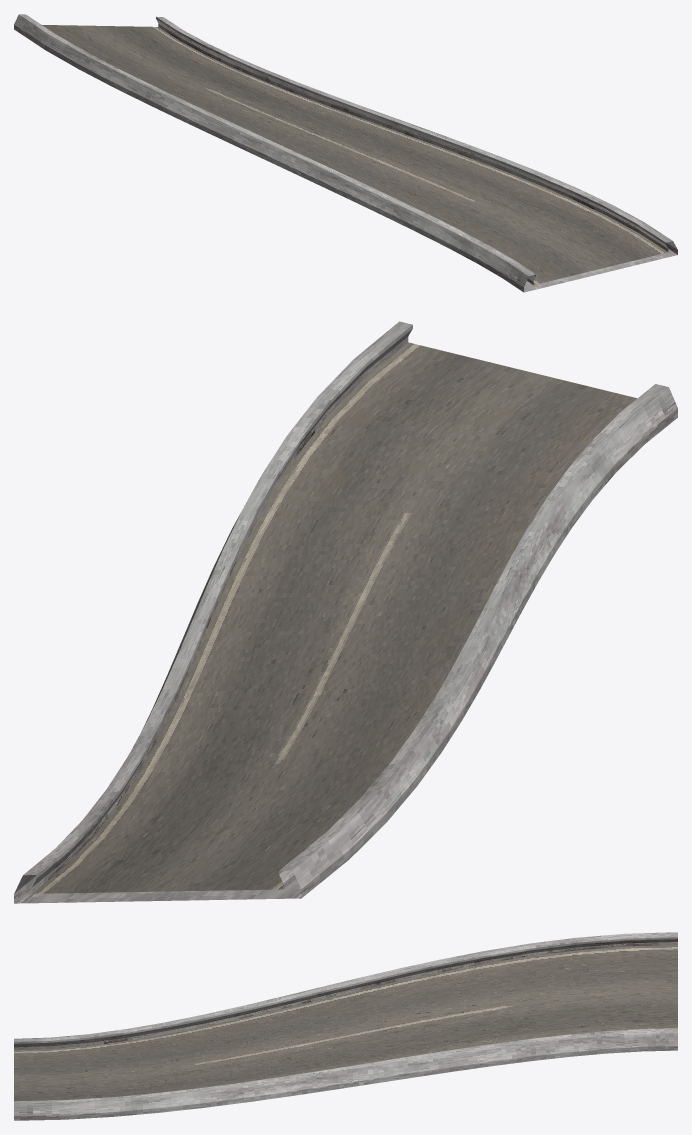
Rendered from road-Chicane-Flat-HalfBankedRight-Even-Left1-Size4.glb.
3 renders of one model, top to bottom at view 1: azimuth 30°, elevation 25°; view 2: azimuth 150°, elevation 25°; view 3: azimuth 270°, elevation 25°, orthographic. The views are drawn at different scales.
Parts seen in each view (by area): view 1: road-Chicane-Flat-HalfBankedRight-Even-Left1-Size4; view 2: road-Chicane-Flat-HalfBankedRight-Even-Left1-Size4; view 3: road-Chicane-Flat-HalfBankedRight-Even-Left1-Size4.
Boxes of the visible parts, x1=… form: road-Chicane-Flat-HalfBankedRight-Even-Left1-Size4: x1=14, y1=14, x2=677, y2=292; road-Chicane-Flat-HalfBankedRight-Even-Left1-Size4: x1=14, y1=321, x2=677, y2=903; road-Chicane-Flat-HalfBankedRight-Even-Left1-Size4: x1=14, y1=932, x2=677, y2=1120.
Bounding box in the file's own units: 2 × 0.3359 × 4.
Materials: 2 (2 with a texture image).
